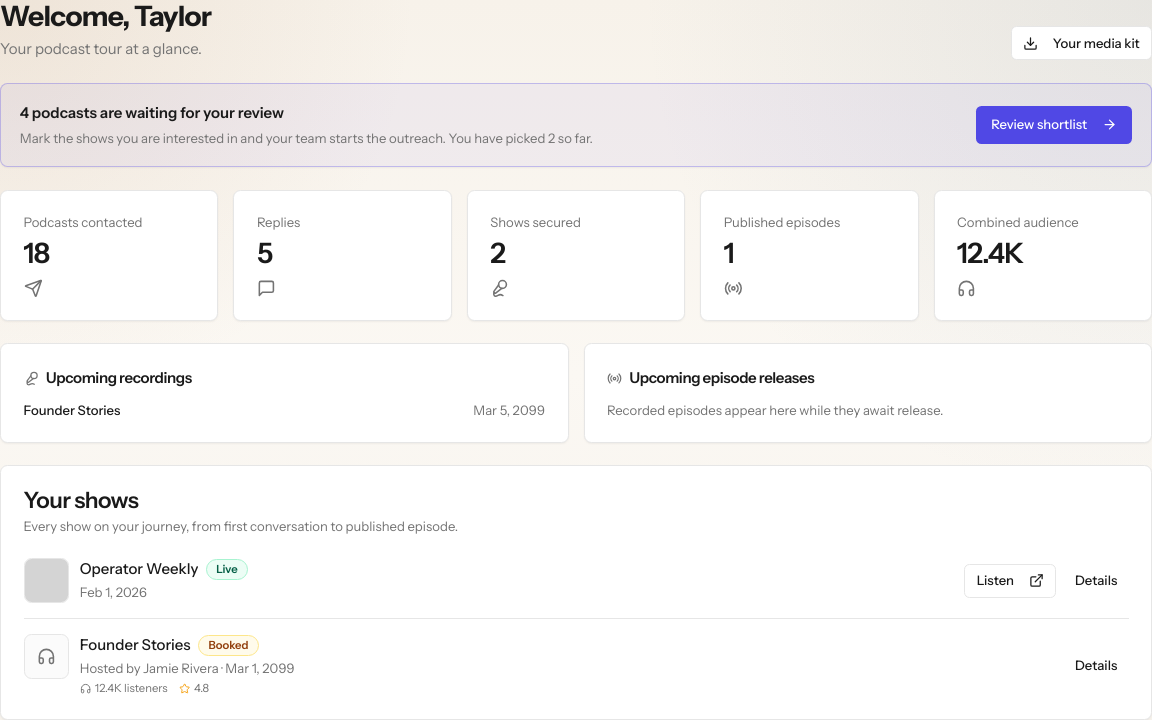
Test case: PortalDashboardMvp › opens the placement details from an upcoming row, where prep lives
Click the button "Founder Stories Mar 5, 2099" at (72, 410), box [24, 401, 545, 419]
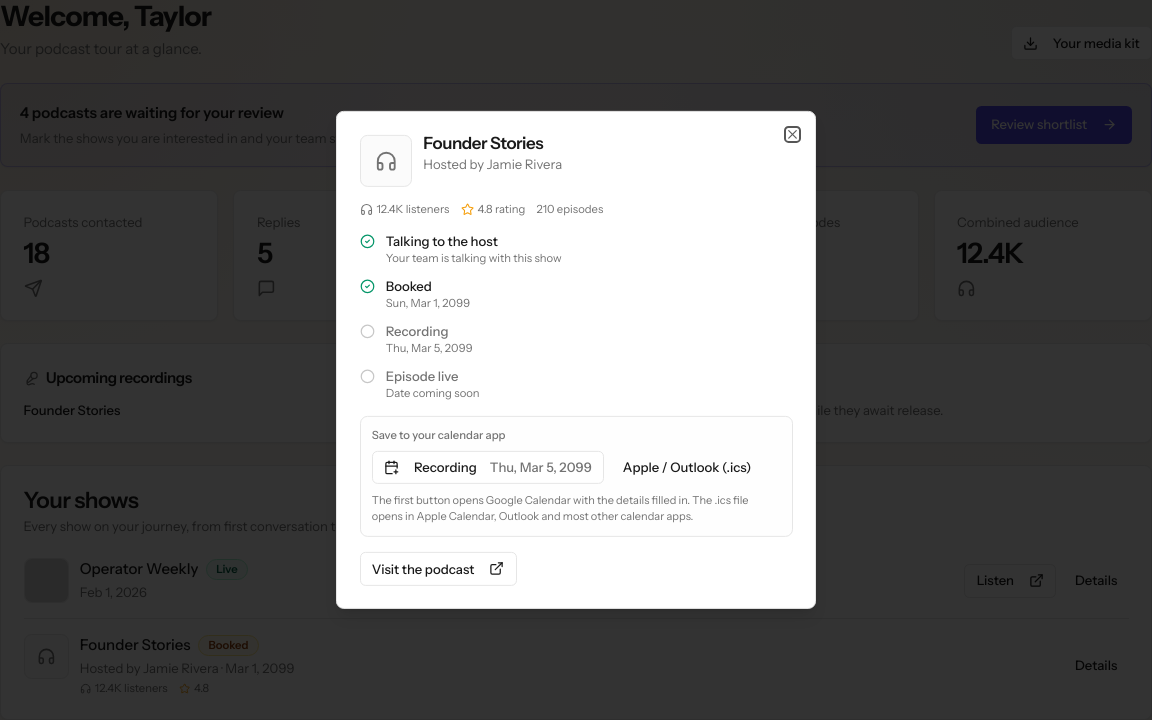
expect the dialog shows "Founder Stories": met, box [423, 132, 543, 152]
